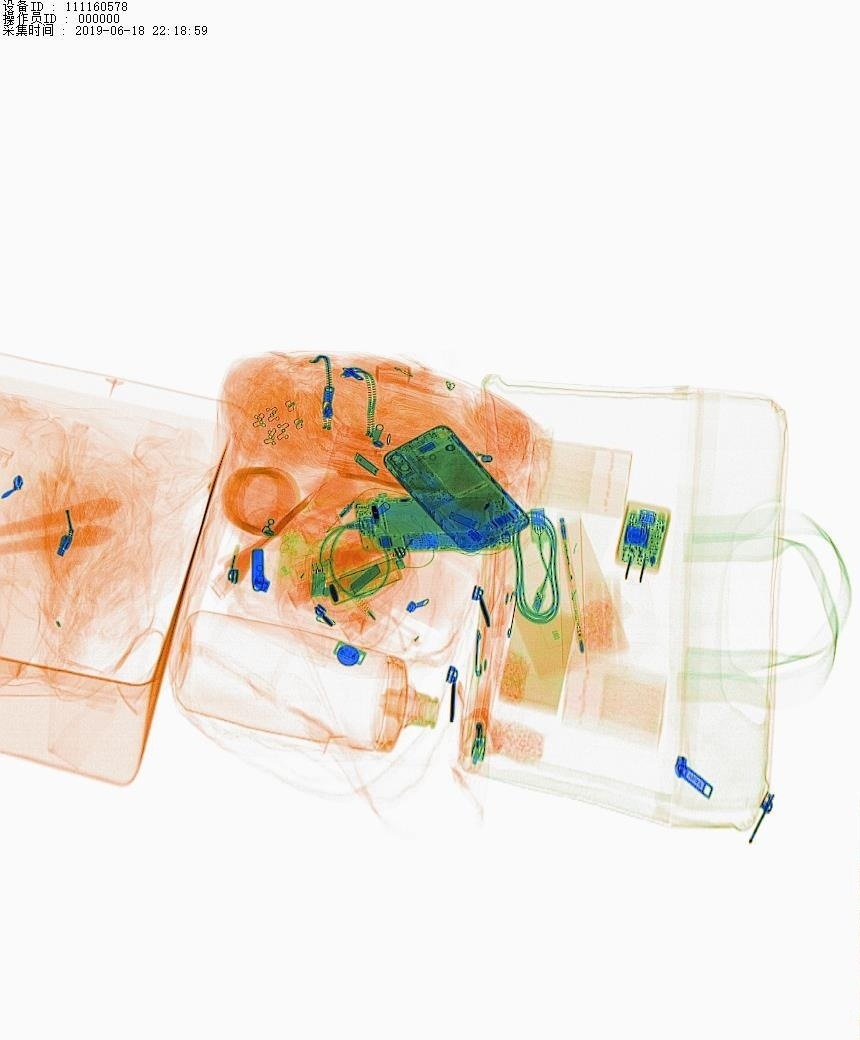NonmetallicFire: (464, 668, 506, 778)
